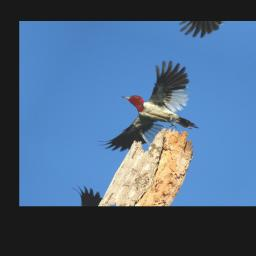Woodpecker: (94, 52, 228, 170)
